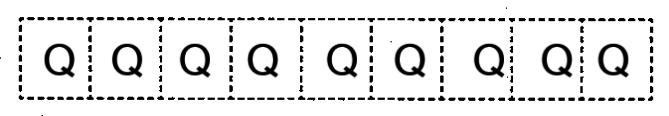Q: (322, 39, 364, 84), (390, 40, 434, 82), (175, 38, 215, 80), (595, 40, 635, 81), (536, 41, 576, 81), (243, 42, 285, 79), (42, 40, 77, 83), (108, 40, 145, 80), (473, 40, 508, 82)
